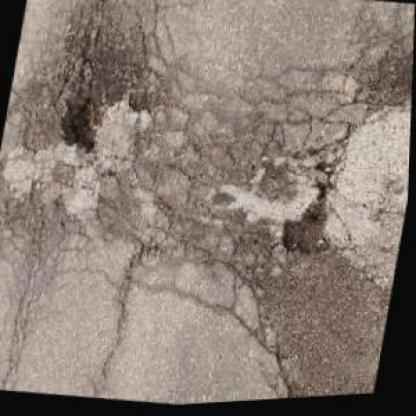pothole: (54, 90, 108, 155), (277, 210, 340, 264)
